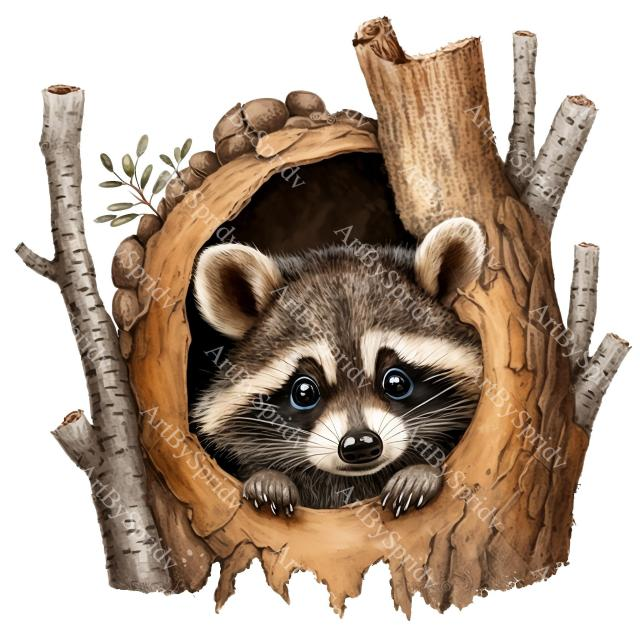Raccoon: (198, 241, 472, 508)
